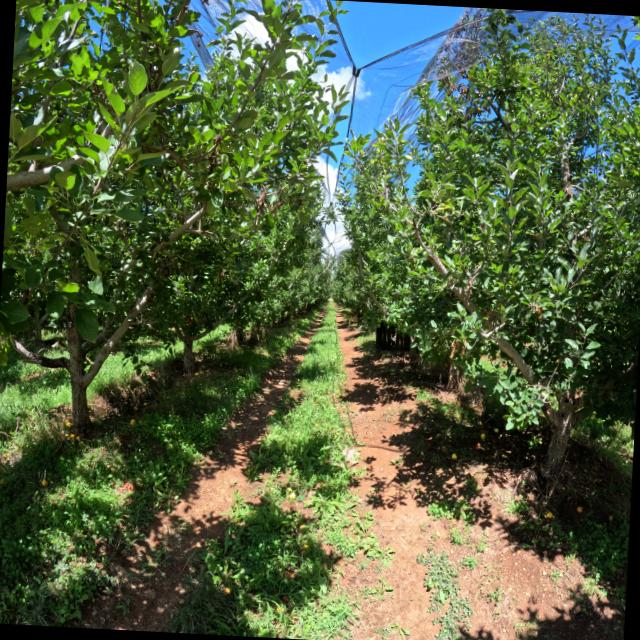-FireBlight-: (450, 339, 467, 360), (208, 146, 221, 170), (257, 191, 267, 209)
